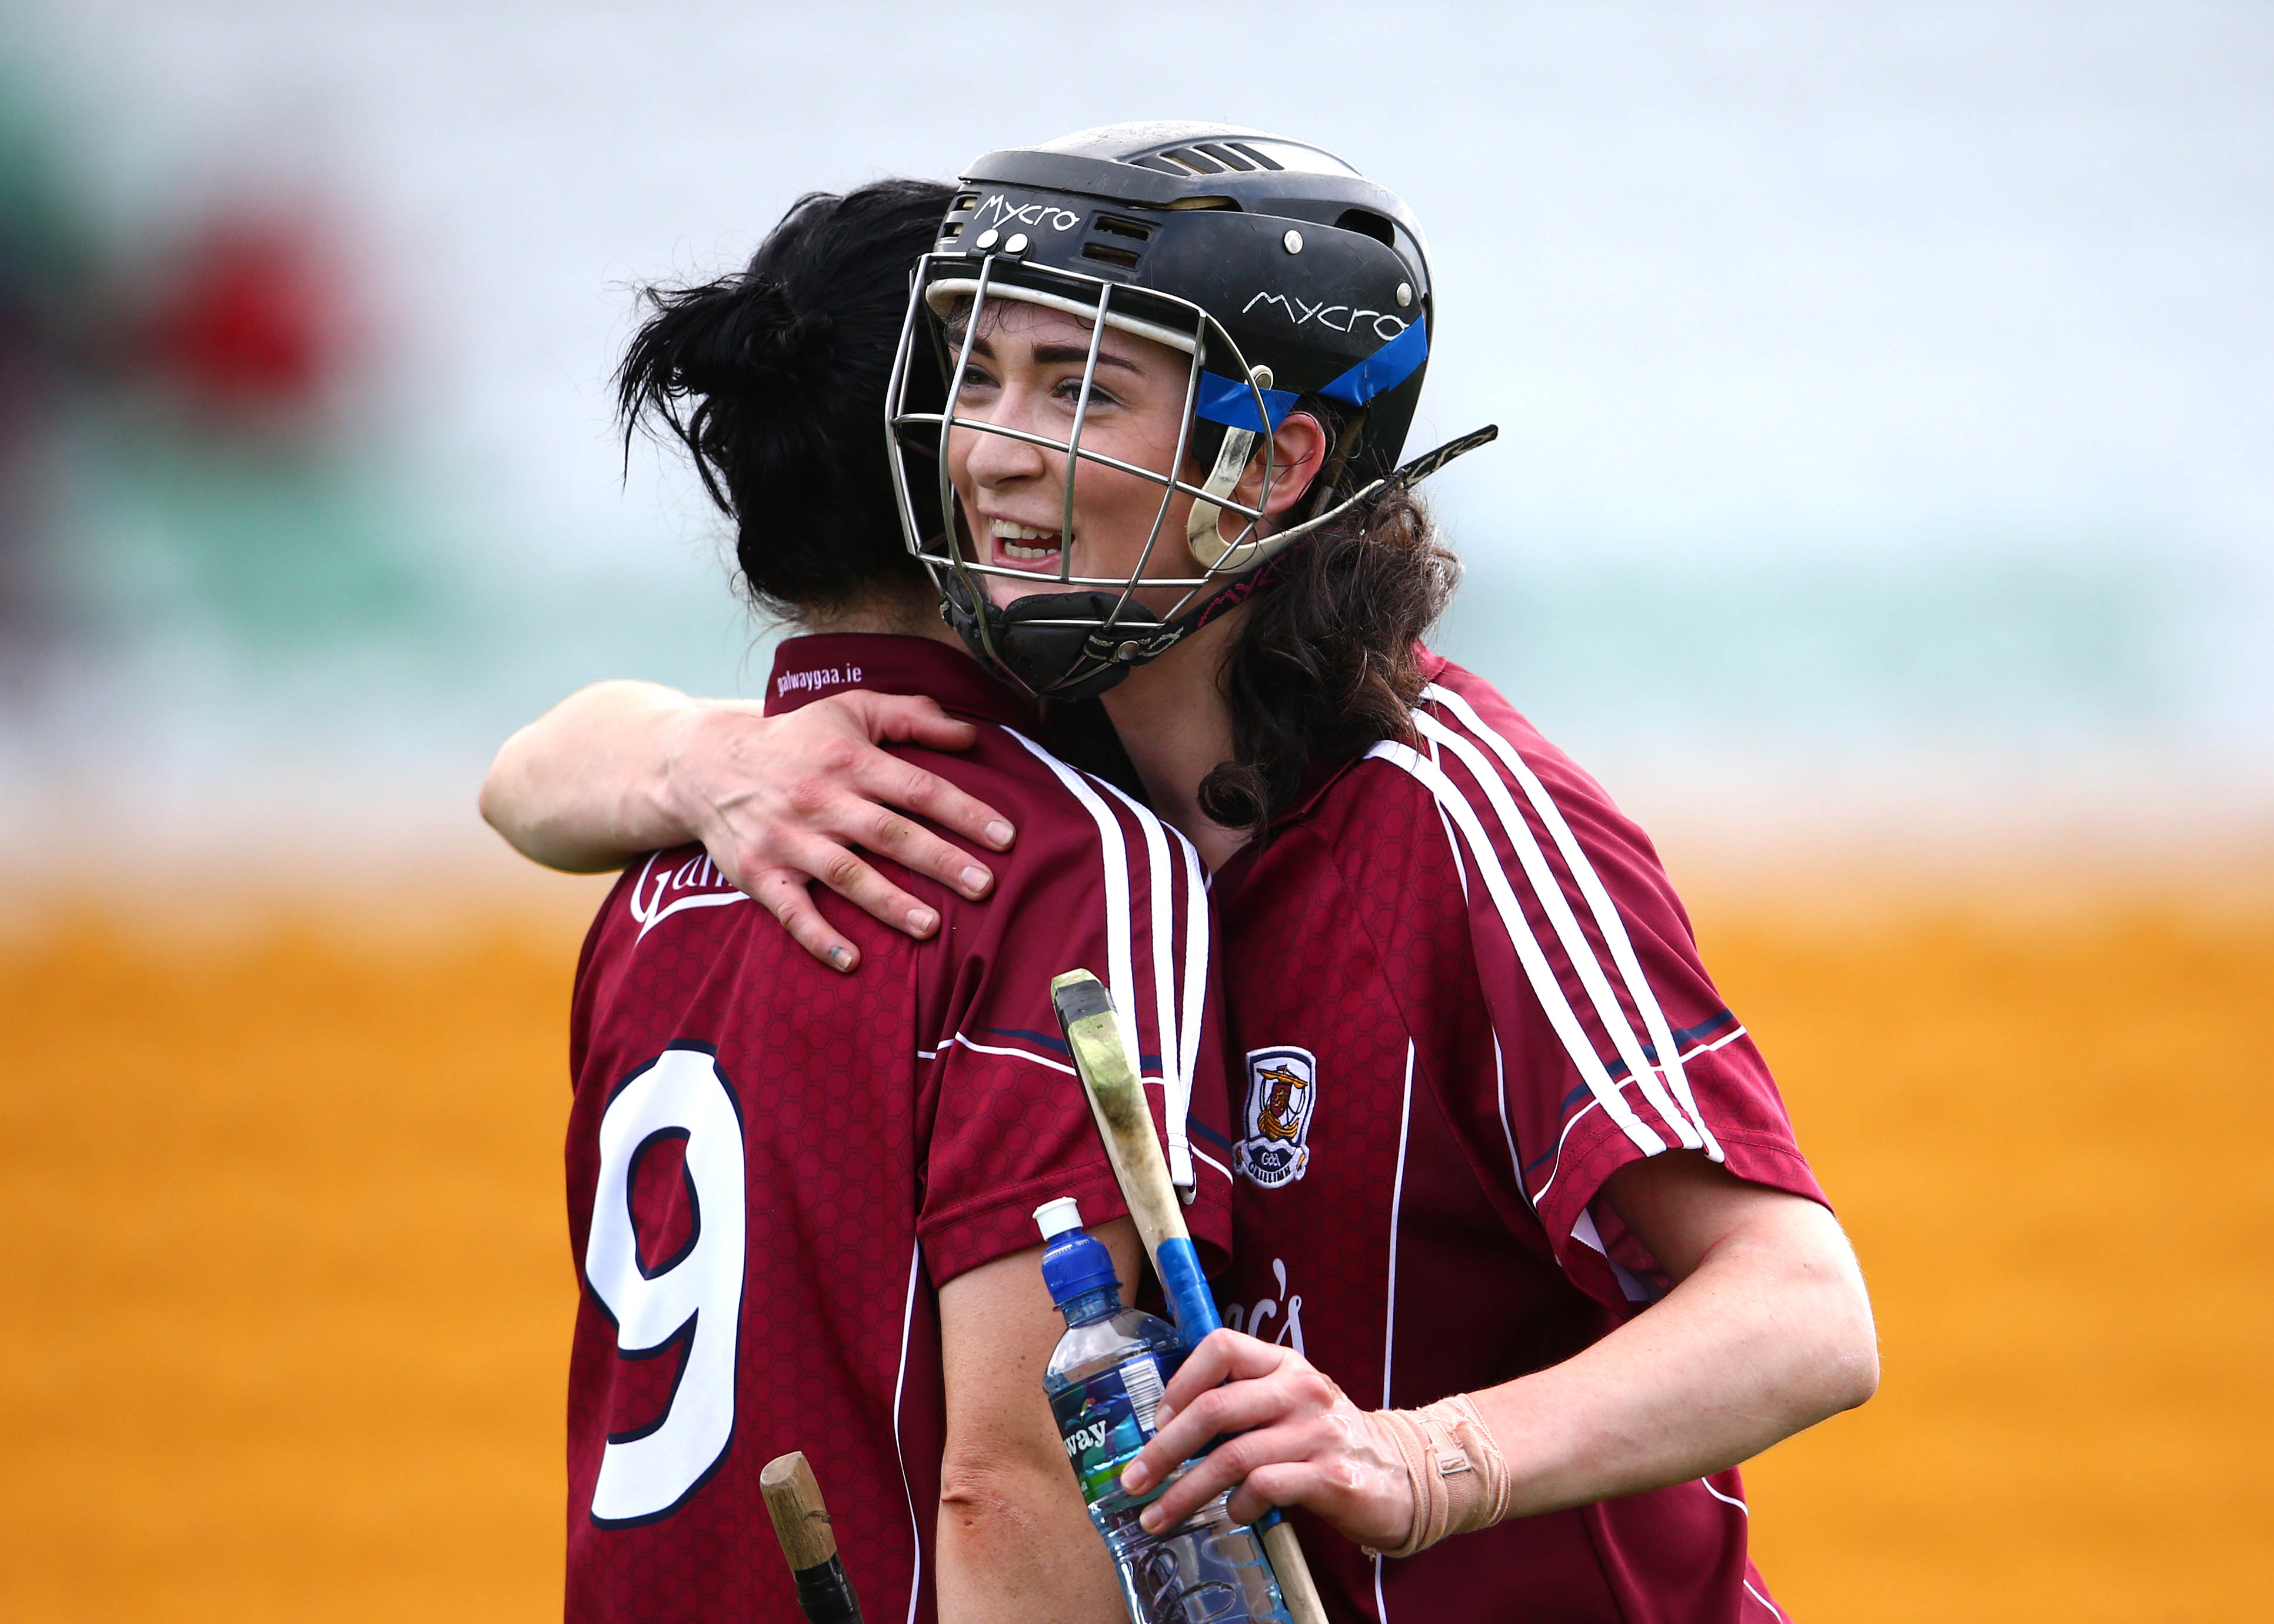player: (921, 127, 1920, 1539), (590, 209, 1221, 1539)
